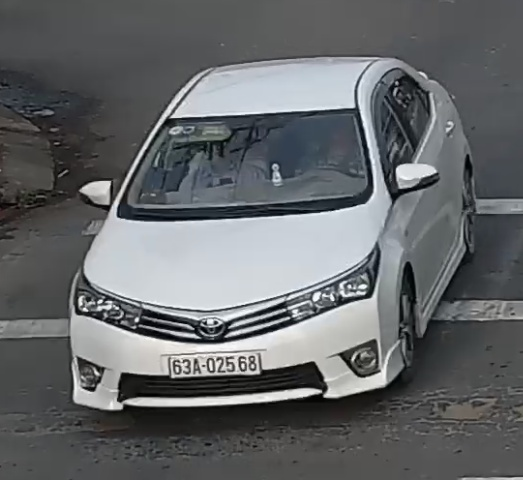vehicle plate: (159, 351, 263, 384)
